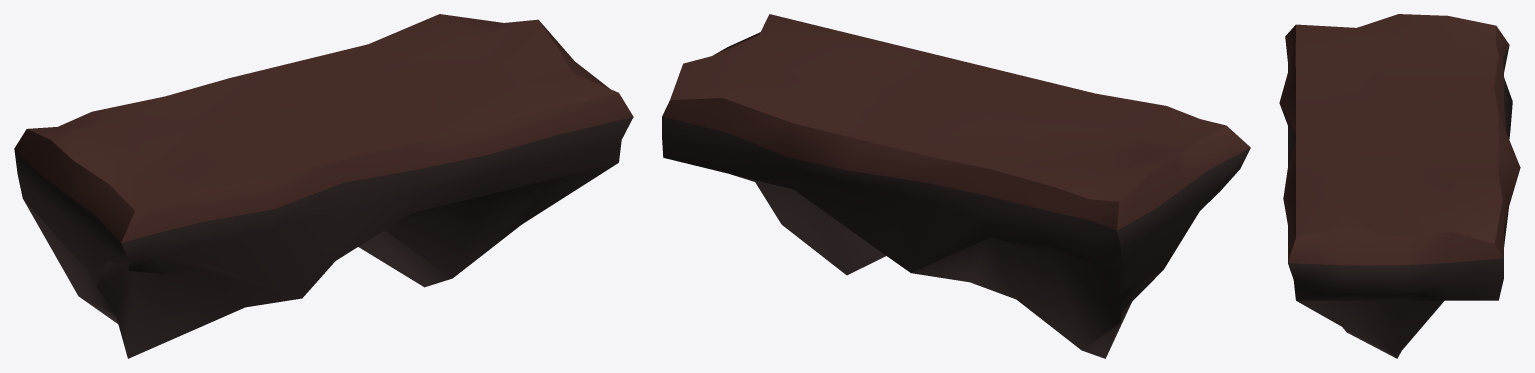
Rendered from CavePlatform.fbx.
The picture shows the model from 3 angles, left to right: view 1: azimuth 30°, elevation 25°; view 2: azimuth 150°, elevation 25°; view 3: azimuth 270°, elevation 25°; orthographic projection. The views are drawn at different scales.
Visible parts, largest first — view 1: pCube1; view 2: pCube1; view 3: pCube1.
Boxes of the visible parts, x1,y1,x2,y2 form: pCube1: [14, 14, 633, 358]; pCube1: [662, 14, 1250, 358]; pCube1: [1279, 14, 1520, 358].
Bounding box in the file's own units: 7.91 × 3.19 × 3.46.
